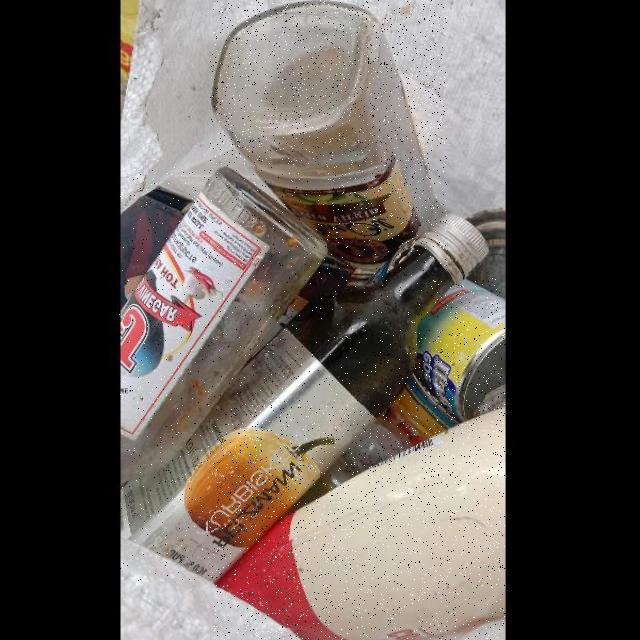glass: (120, 248, 442, 580), (120, 165, 327, 487), (211, 0, 447, 282)
metal: (413, 278, 505, 424), (374, 352, 457, 445)
plastic: (215, 405, 505, 640)
